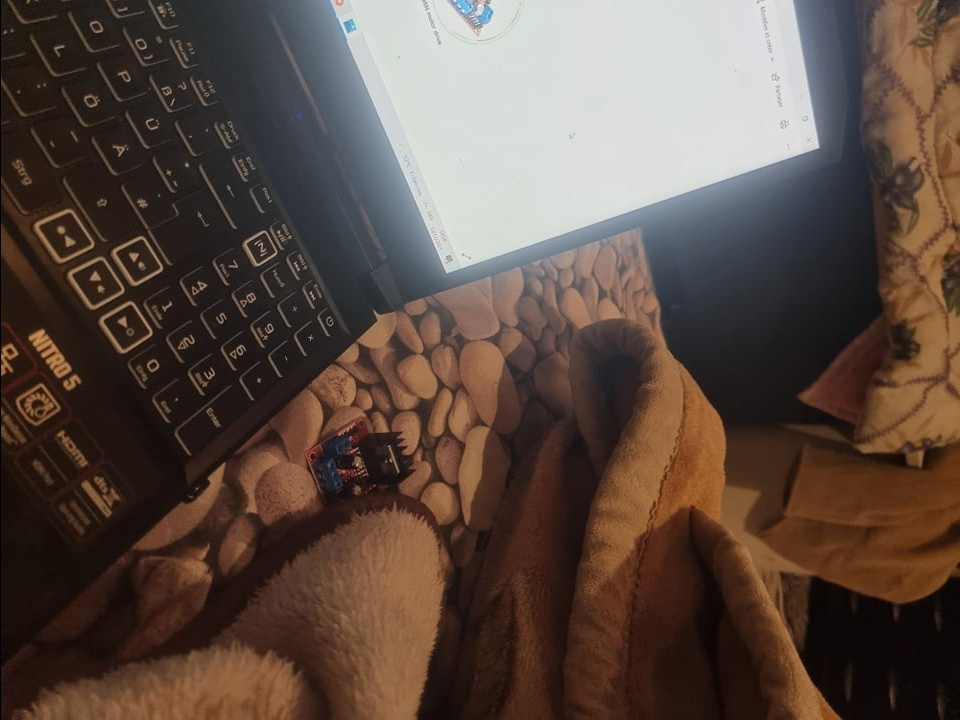MOTOR: (303, 416, 416, 506)
